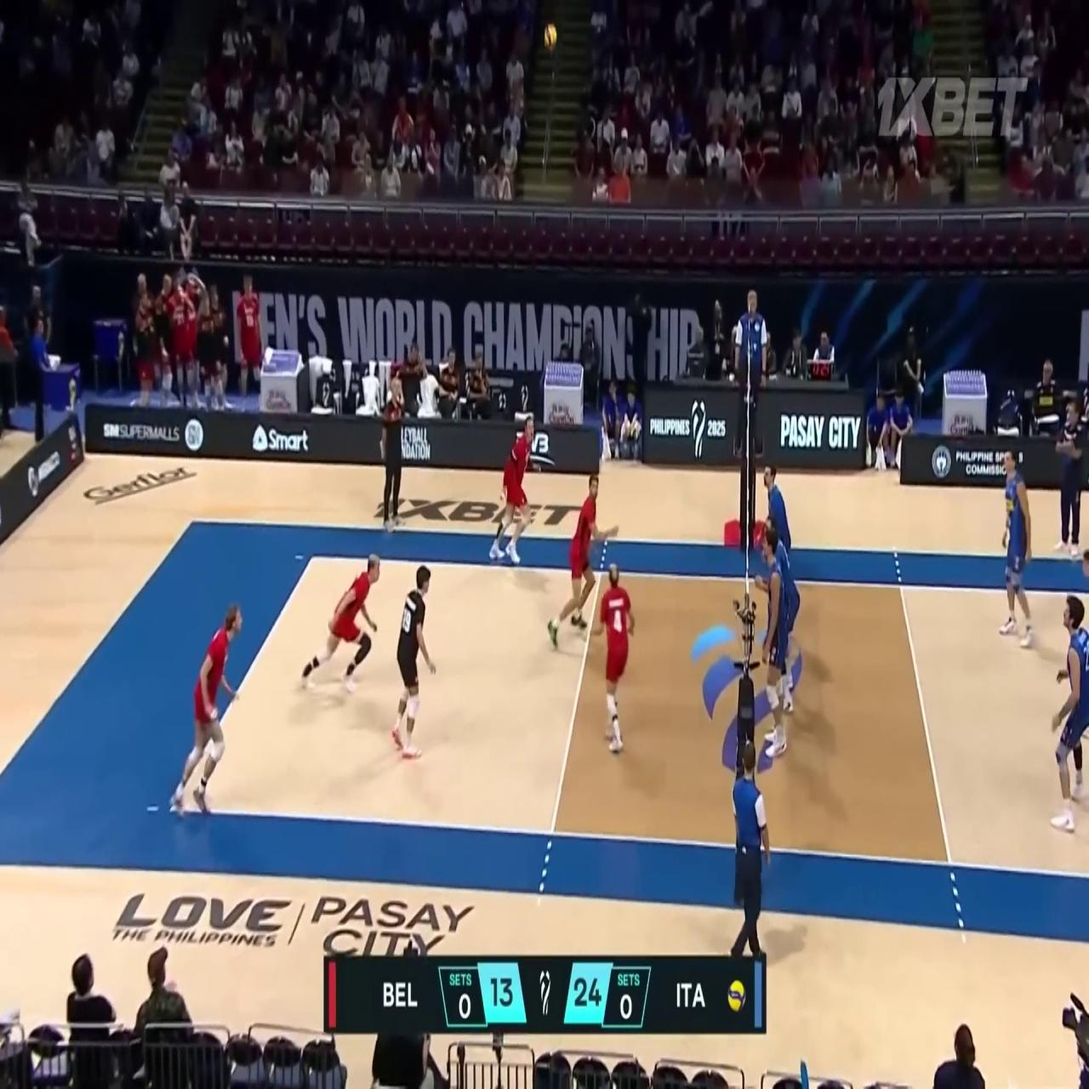ball: (543, 23, 557, 51)
